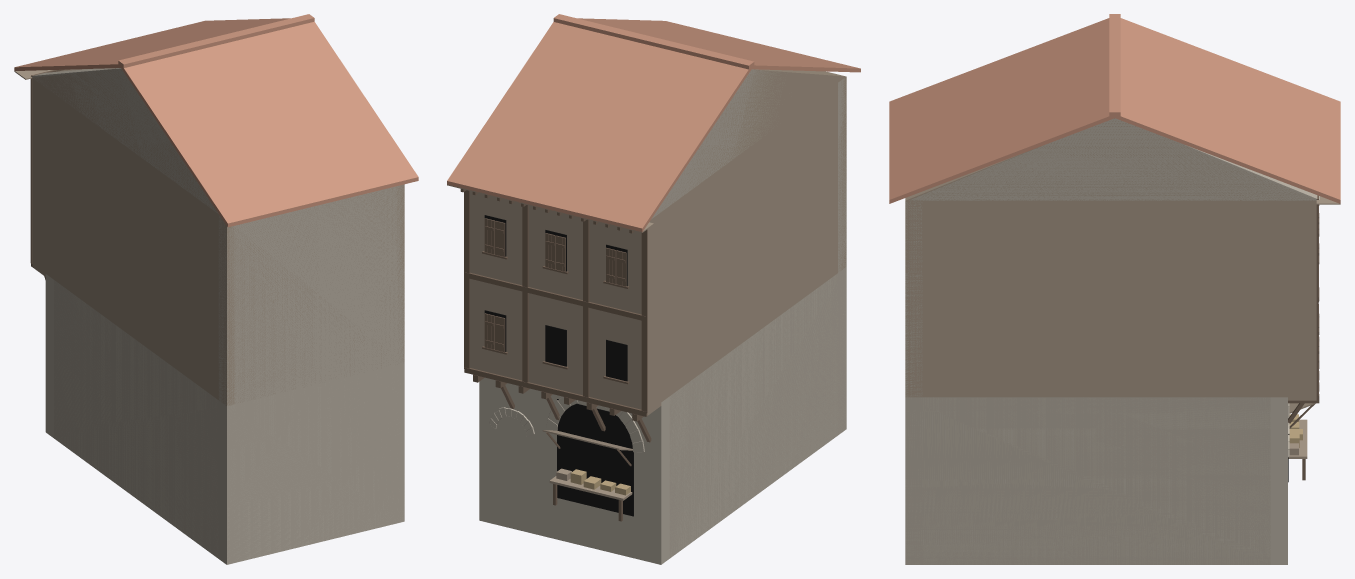
The model's file is casa-68-2-legno.glb.
3 renders of one model, left to right at view 1: azimuth 30°, elevation 25°; view 2: azimuth 150°, elevation 25°; view 3: azimuth 270°, elevation 25°, orthographic. The views are drawn at different scales.
Parts seen in each view (by area): view 1: vicino, lontano; view 2: vicino, lontano, aperta; view 3: vicino, lontano, aperta.
Boxes of the visible parts, x1,y1,x2,y2 form: vicino: (14, 14, 418, 564); lontano: (15, 65, 418, 564); vicino: (447, 14, 860, 564); lontano: (448, 66, 860, 563); aperta: (542, 430, 632, 521); vicino: (889, 14, 1340, 564); lontano: (890, 115, 1337, 564); aperta: (1288, 403, 1315, 480).
Size of the model in its own units: 7.3 by 15.77 by 14.15.
